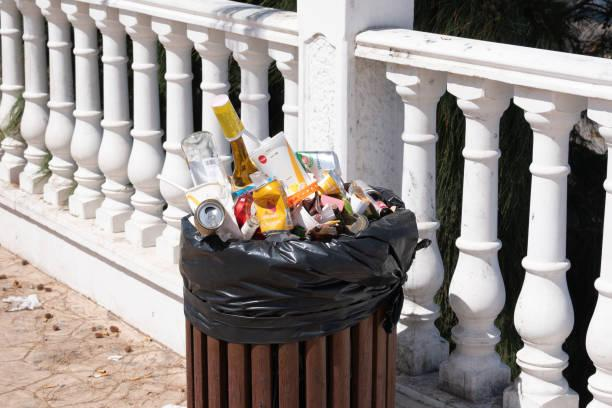trash: (219, 101, 280, 203), (252, 130, 324, 213), (178, 126, 220, 202), (175, 201, 250, 241), (177, 181, 230, 231), (306, 139, 349, 200), (257, 178, 294, 247), (350, 175, 395, 222), (0, 286, 54, 320), (309, 197, 349, 241), (289, 201, 319, 246), (236, 189, 265, 228), (338, 193, 369, 221), (323, 171, 347, 202), (347, 213, 371, 243)
trash_can_overflow: (117, 81, 437, 408)
